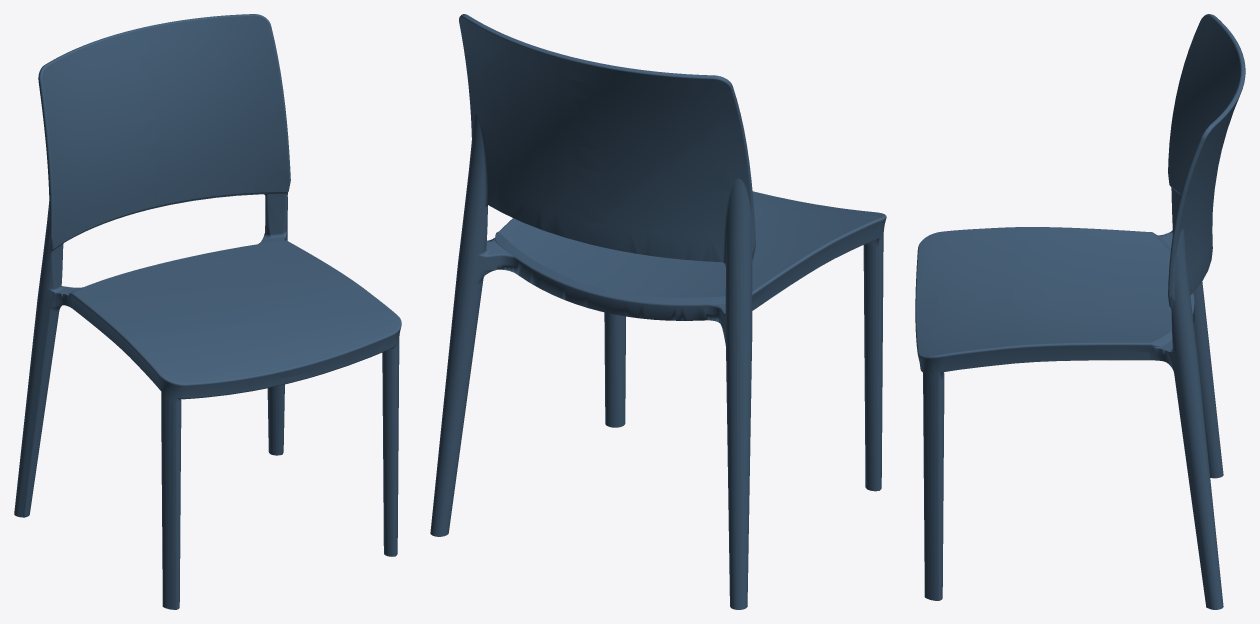
Rendered from rio-chair.glb.
The picture shows the model from 3 angles, left to right: view 1: azimuth 30°, elevation 25°; view 2: azimuth 150°, elevation 25°; view 3: azimuth 270°, elevation 25°; orthographic projection. The views are drawn at different scales.
Parts seen in each view (by area): view 1: rio-chair; view 2: rio-chair; view 3: rio-chair.
Boxes of the visible parts, x1=… form: rio-chair: x1=14, y1=14, x2=401, y2=609; rio-chair: x1=430, y1=14, x2=886, y2=609; rio-chair: x1=915, y1=14, x2=1245, y2=609.
Size of the model in its own units: 0.5036 by 0.8003 by 0.5076.
